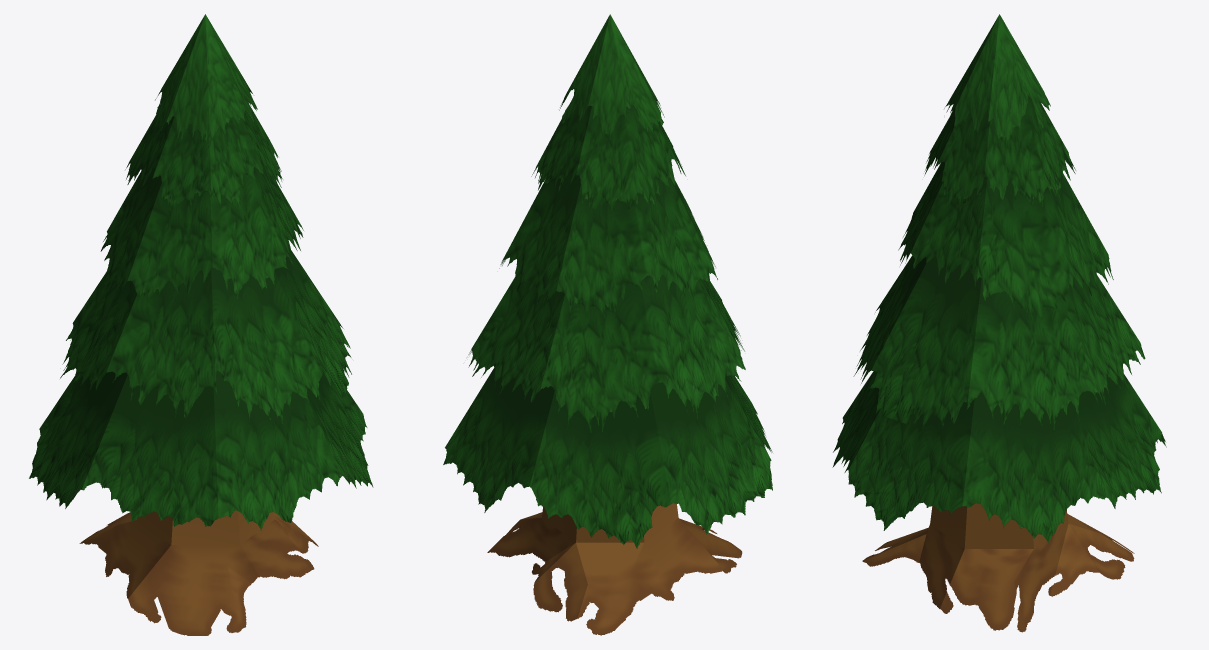
File: tree00.dae
The picture shows the model from 3 angles, left to right: view 1: azimuth 30°, elevation 25°; view 2: azimuth 150°, elevation 25°; view 3: azimuth 270°, elevation 25°; orthographic projection.
Visible parts, largest first — view 1: leaves, trunk; view 2: leaves, trunk; view 3: leaves, trunk.
Boxes of the visible parts, x1,y1,x2,y2 form: leaves: (29,14,373,530); trunk: (79,510,318,635); leaves: (443,14,772,548); trunk: (487,503,742,635); leaves: (832,14,1166,542); trunk: (862,503,1134,632).
Size of the model in its own units: 4.62 by 4.5 by 7.58.
1 material, 1 textured.
